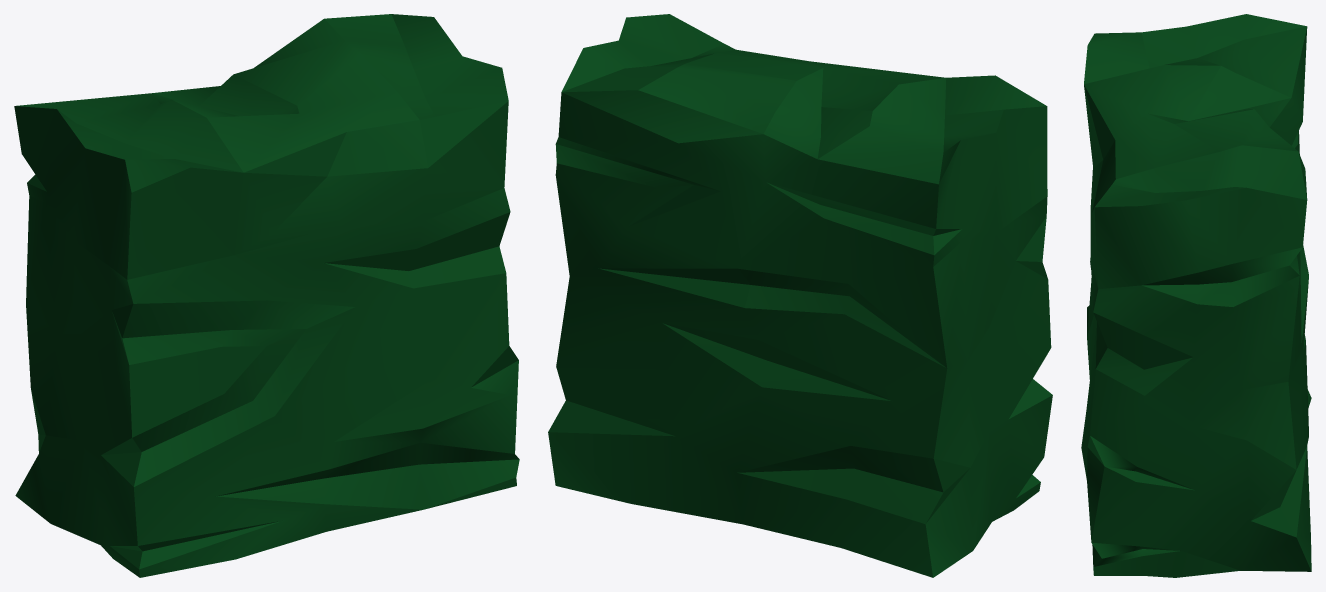
Rendered from Hedge_1.fbx.
The picture shows the model from 3 angles, left to right: view 1: azimuth 30°, elevation 25°; view 2: azimuth 150°, elevation 25°; view 3: azimuth 270°, elevation 25°; orthographic projection. The views are drawn at different scales.
Visible parts, largest first — view 1: Hedge_1; view 2: Hedge_1; view 3: Hedge_1.
Part boxes in pixels (left/top/right/bottom): Hedge_1: left=14, top=14, right=519, bottom=577; Hedge_1: left=548, top=14, right=1052, bottom=577; Hedge_1: left=1081, top=14, right=1311, bottom=577.
Size of the model in its own units: 48.84 by 47.25 by 25.42.
